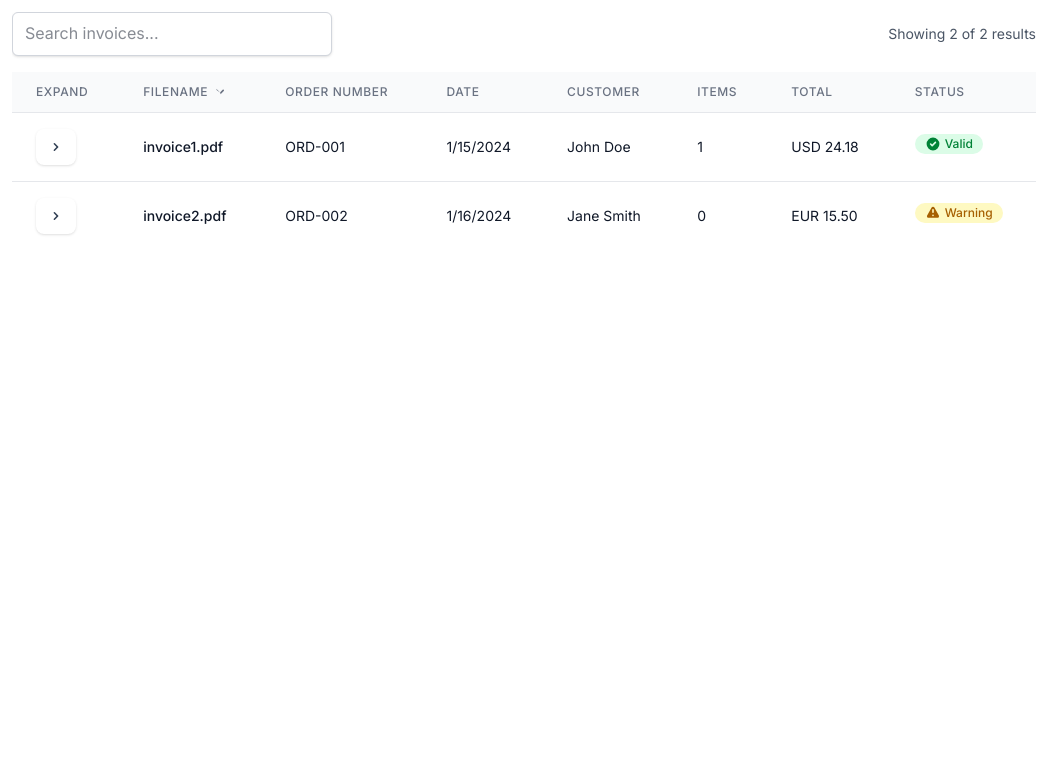
Test: ResultsTable › shows validation errors in expanded row
The width and height of the screenshot is (1048, 780).
What coordinates should you click on to do the following:
click the button named "Expand invoice2.pdf details"
I would click on:
 (56, 216)
Its box is [36,198,76,234].
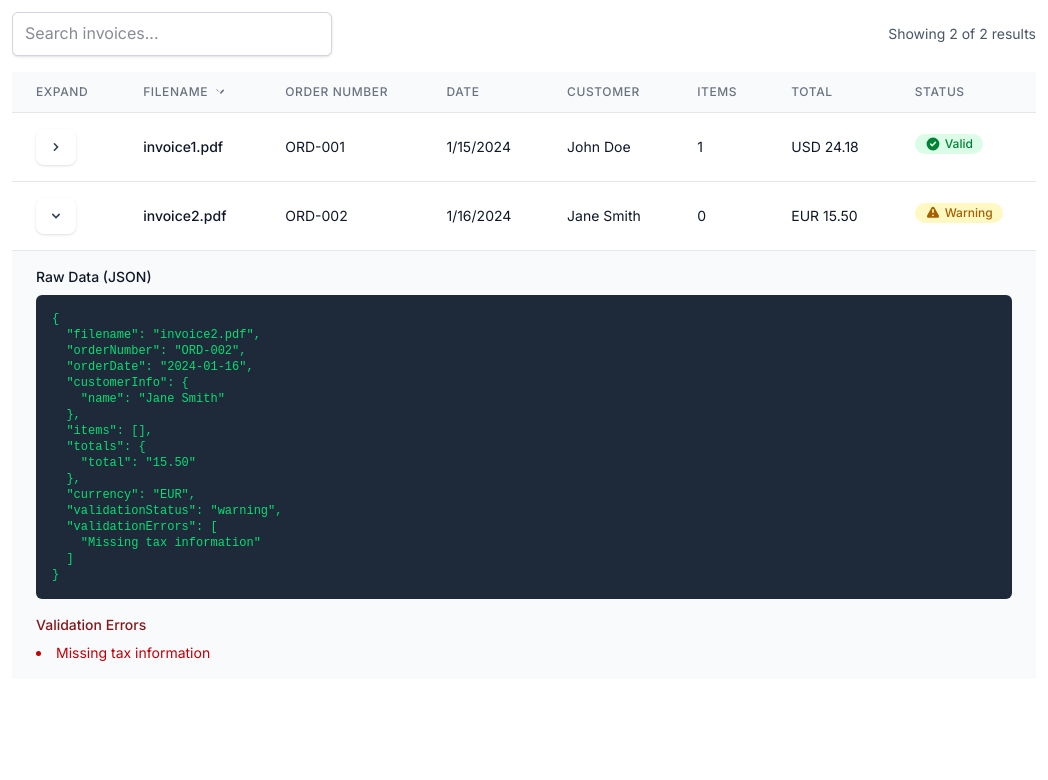
Now the heading "Validation Errors" is shown, box [36,616,146,633]
Now the list item "Missing tax information" is shown, box [56,644,210,661]
